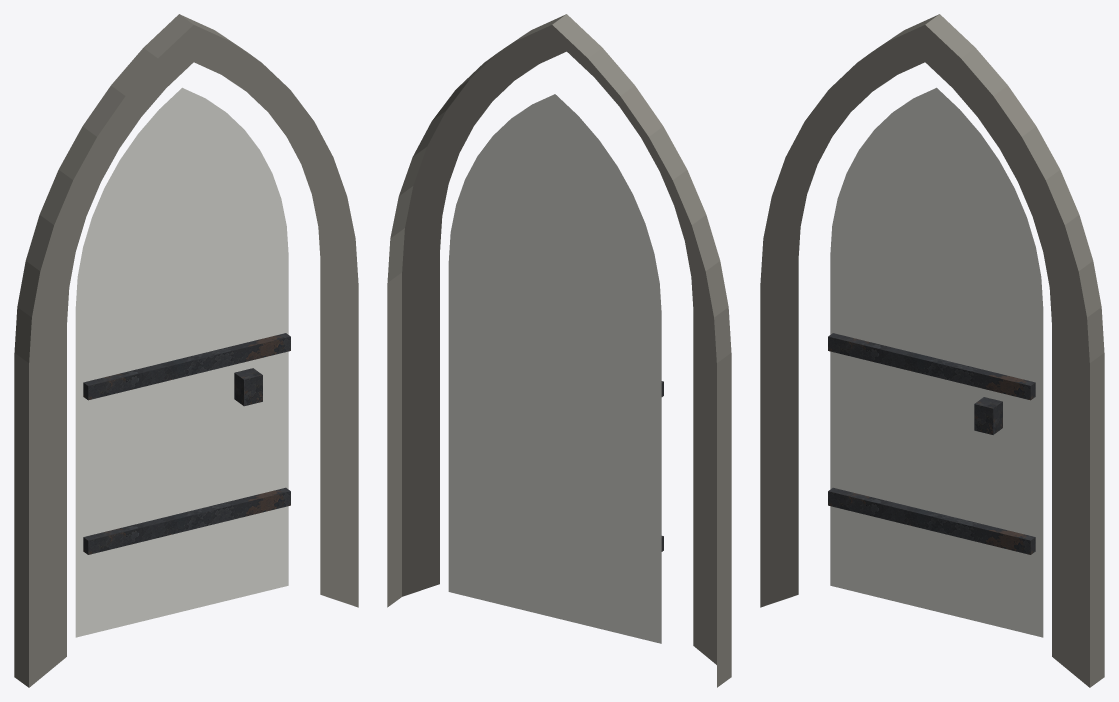
Rendered from door_arch_blue.glb.
3 views of the same model, side by side, from view 1: azimuth 30°, elevation 25°; view 2: azimuth 150°, elevation 25°; view 3: azimuth 330°, elevation 25° (orthographic).
Parts seen in each view (by area): view 1: door_arch_blue; view 2: door_arch_blue; view 3: door_arch_blue.
Part boxes in pixels (x1,y1,x2,y2): door_arch_blue: (14, 14, 358, 687); door_arch_blue: (387, 14, 731, 687); door_arch_blue: (760, 14, 1104, 687).
Size of the model in its own units: 1.56 by 2.82 by 0.125.
